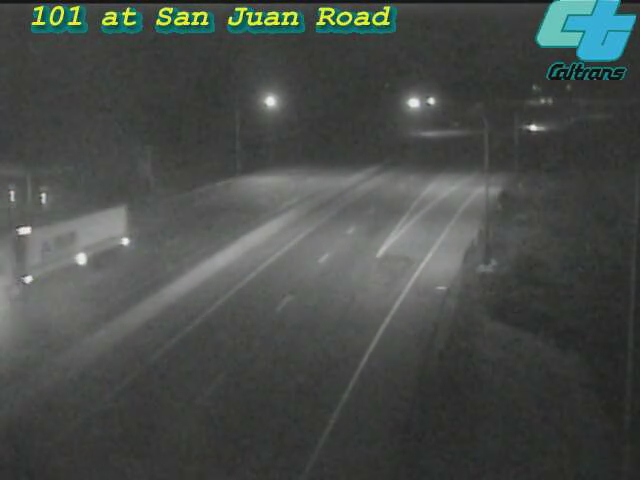vehicle: (31, 205, 111, 285), (509, 103, 559, 153)
